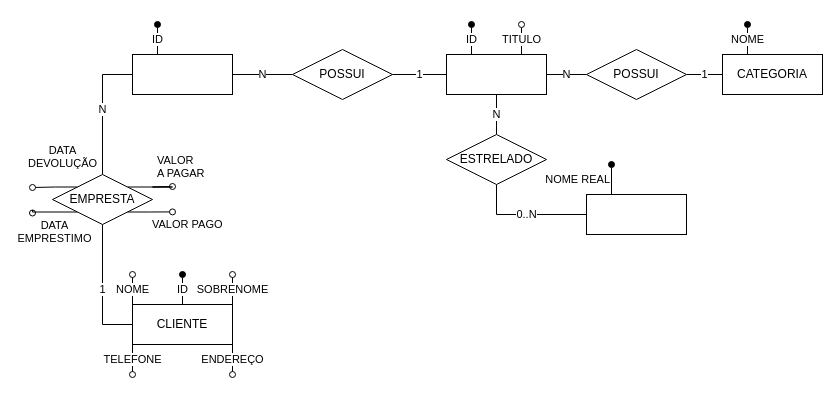
Some shapes in this 840 by 400 pixel diagram are drawn without their labels. The shapes that lost their labels are listed below. From the top down, each one's centre as x and y in pixels, then its label:
the point at 182,74: DVD
the point at 496,74: FILME
the point at 636,214: ATOR
